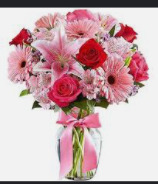RedRose: (74, 34, 113, 74), (48, 72, 86, 113)
